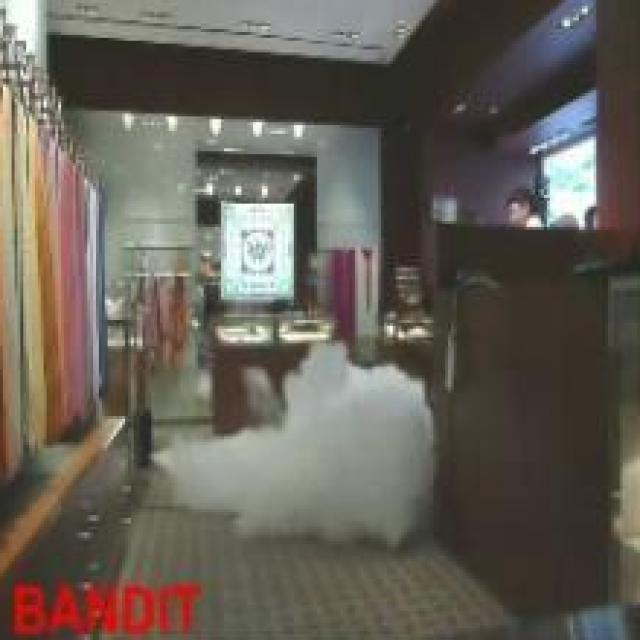fire: (156, 338, 438, 554)
